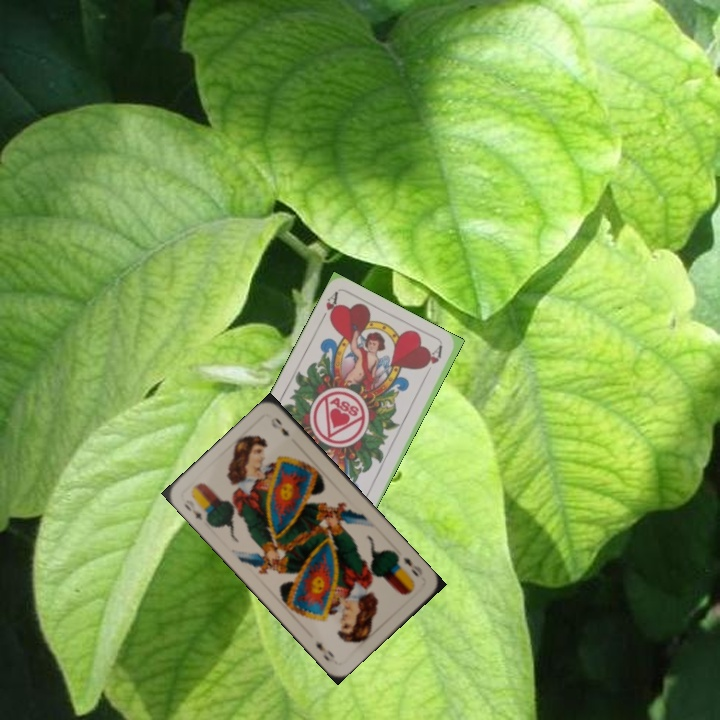EO: (180, 499, 211, 525), (399, 553, 421, 579)
HA: (315, 289, 341, 327)
